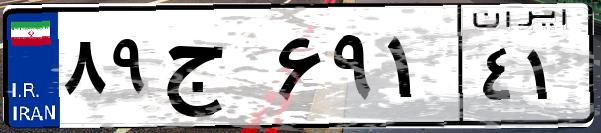1: (385, 28, 445, 110), (525, 38, 570, 115)
4: (475, 38, 525, 113)
6: (270, 28, 330, 110)
8: (57, 26, 110, 100)
9: (330, 28, 385, 110), (110, 28, 158, 98)
ج: (158, 20, 270, 120)
